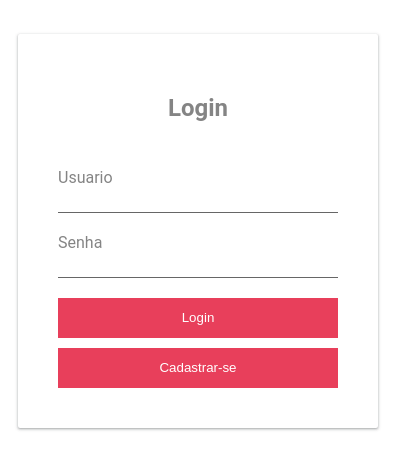
LoginPage › Dado os campos não preechidos e clique no botao de login,         Quando a API retornar requisicao invalida         Entao a mensagem de erro tem que ser mostrad
This screenshot has width=397, height=465.
Click the button "Login". click: click(198, 318)
box: [58, 298, 338, 338]
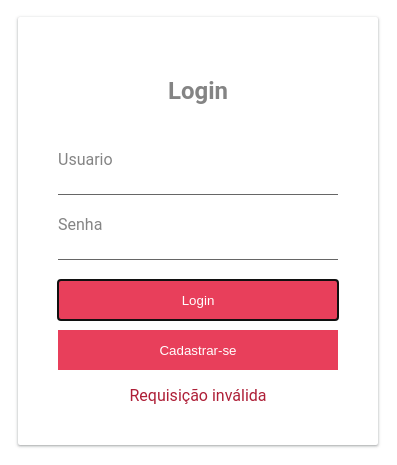
Now the text "Requisição inválida" is shown, box [130, 386, 266, 405]
